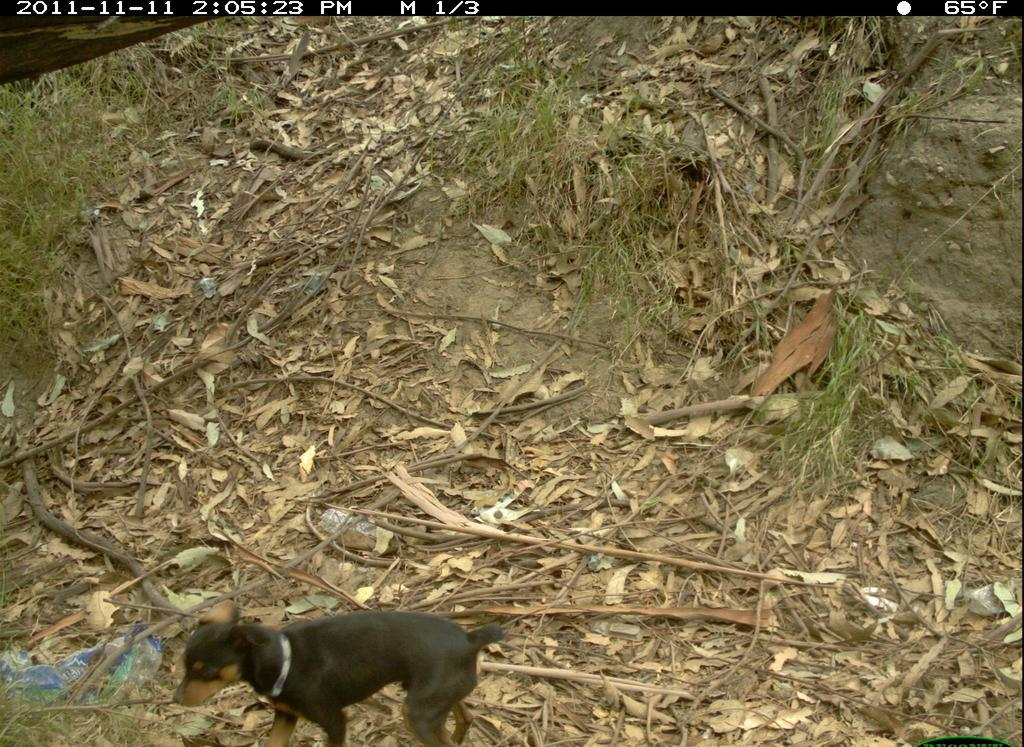dog: (164, 584, 525, 747)
